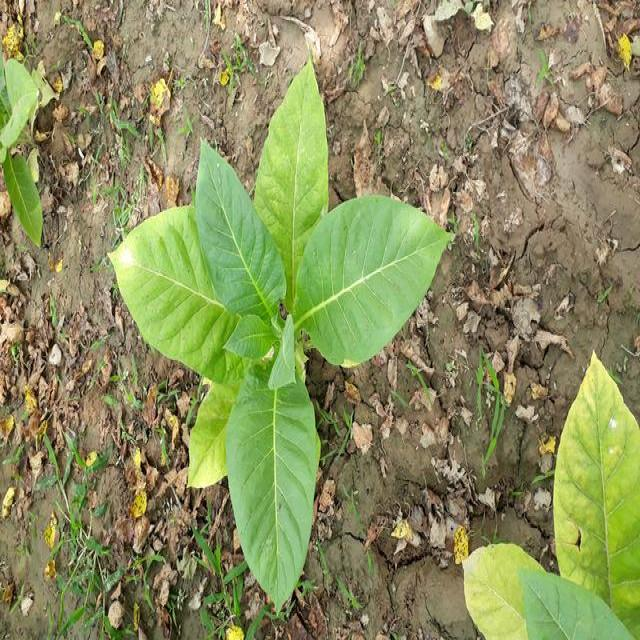crop: (100, 52, 457, 624)
